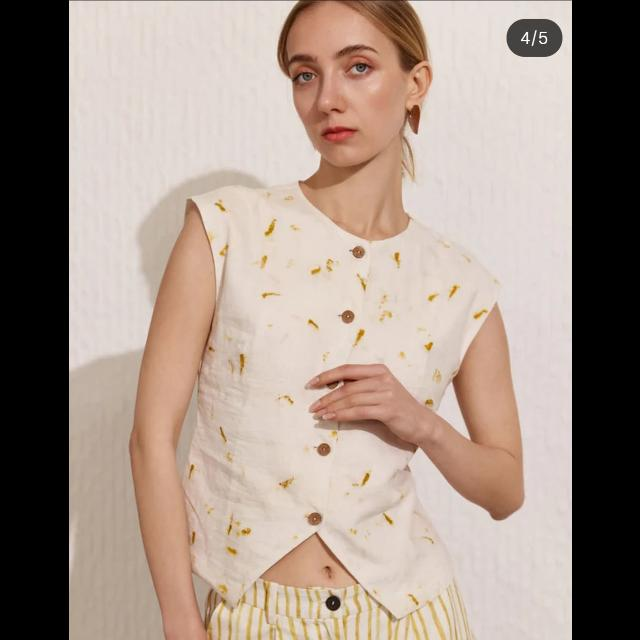top: (180, 188, 458, 608)
